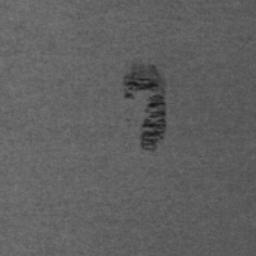Secondary rust skin: (122, 63, 168, 152)
